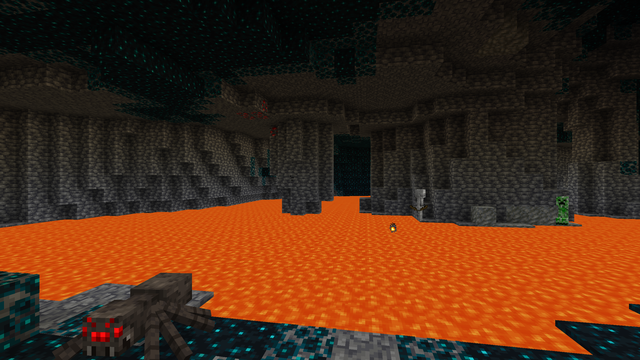araignees: (50, 270, 206, 358)
creepers: (555, 195, 571, 225)
squelettes: (414, 189, 425, 220)
